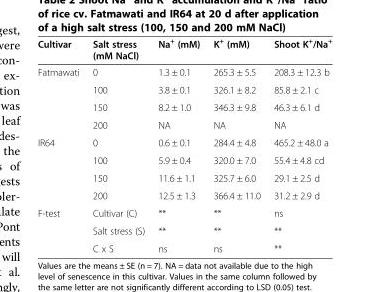table: (36, 36, 331, 253)
table column: (85, 36, 150, 253), (266, 36, 331, 253), (206, 36, 266, 253), (150, 36, 206, 253), (36, 36, 85, 253)
table column header: (36, 36, 331, 63)
table row: (36, 36, 331, 63), (36, 80, 331, 98), (36, 115, 331, 133), (36, 133, 331, 151), (36, 168, 331, 186), (36, 203, 331, 221), (36, 221, 331, 239), (36, 63, 331, 80), (36, 98, 331, 115), (36, 151, 331, 168), (36, 186, 331, 203), (36, 239, 331, 253)
table spanning cell: (36, 63, 85, 133), (36, 133, 85, 203), (36, 203, 85, 253)
